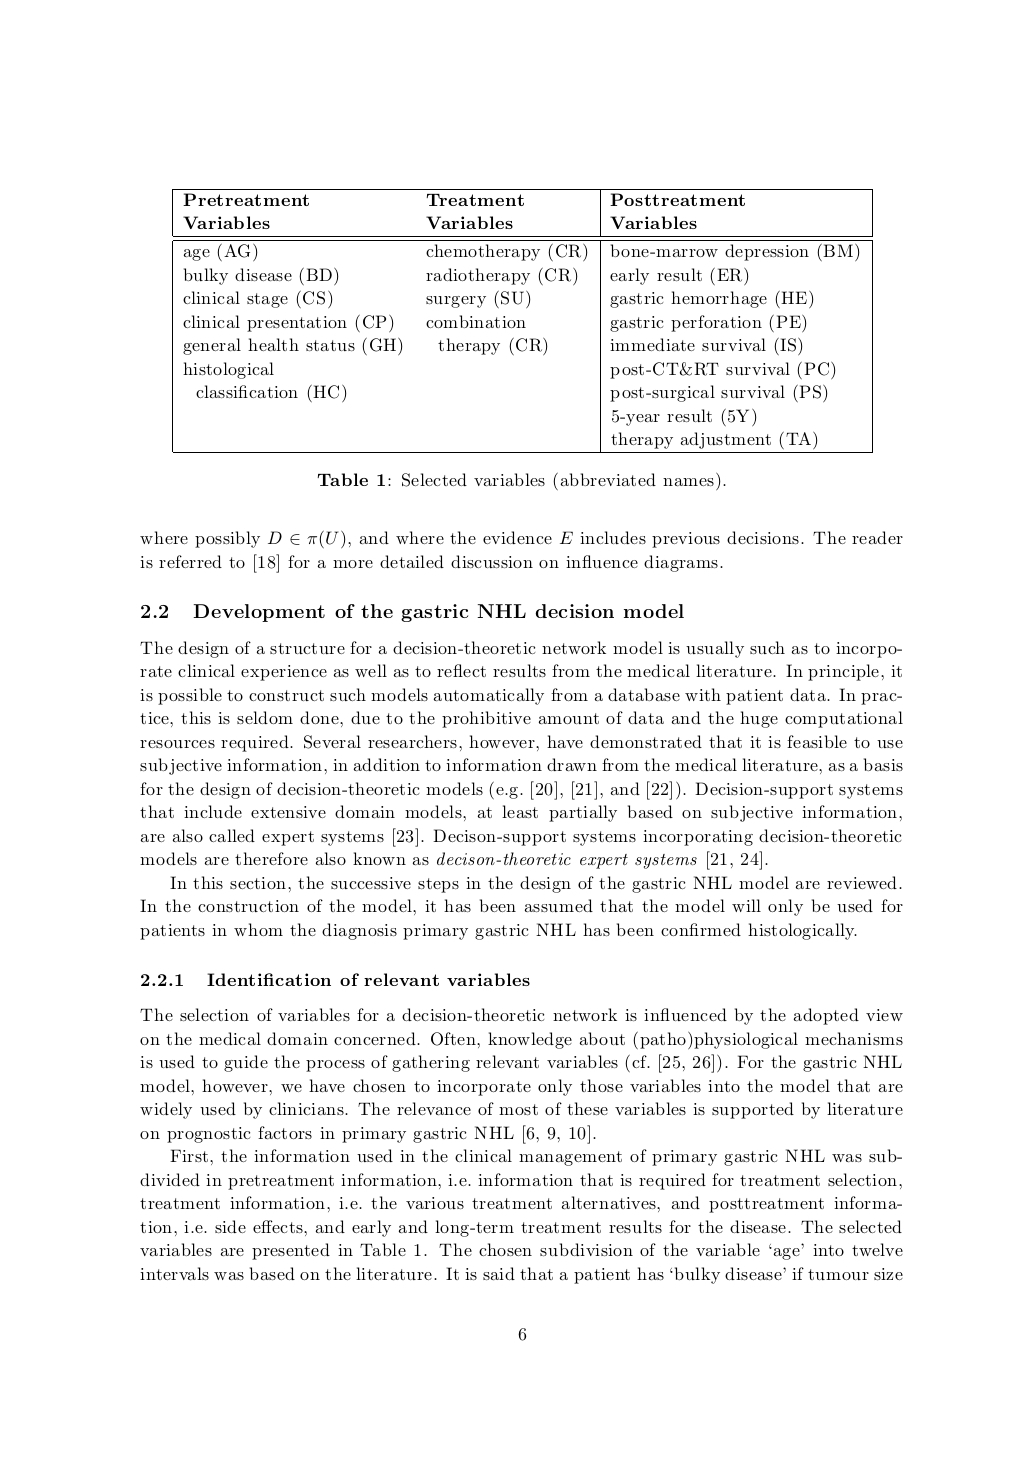Table: (172, 189, 873, 452)
